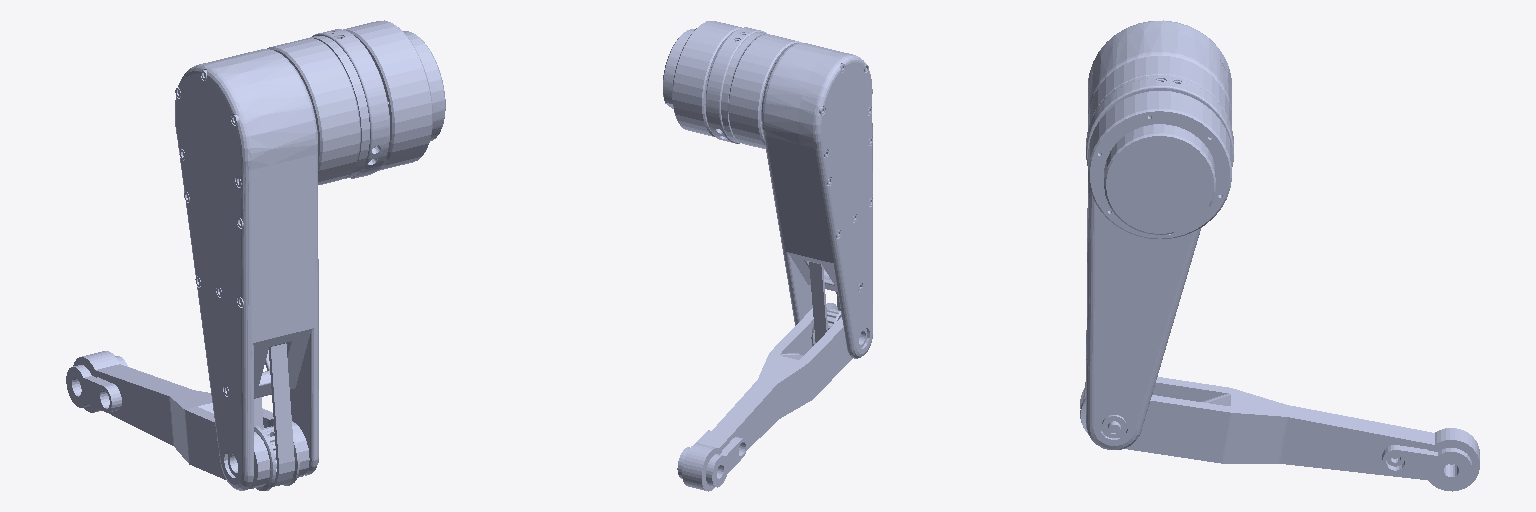
URDF robot description (bipedal):
<?xml version="1.0" encoding="utf-8"?>
<!-- This URDF was automatically created by SolidWorks to URDF Exporter! Originally created by [author] ([email redacted]) 
     Commit Version: 1.6.0-4-g7f85cfe  Build Version: 1.6.7995.38578
     For more information, please see http://wiki.ros.org/sw_urdf_exporter -->
<robot
  name="bipedal">
  <link
    name="hip">
    <inertial>
      <origin
        xyz="0.0173834753494876 0.000104515089306609 8.47570205442905E-05"
        rpy="0 0 0" />
      <mass
        value="0.145351084248357" />
      <inertia
        ixx="9.42168190177246E-05"
        ixy="-2.11499558612165E-07"
        ixz="-1.71516596824862E-07"
        iyy="6.2237093053808E-05"
        iyz="2.51434127778847E-07"
        izz="6.2130947779561E-05" />
    </inertial>
    <visual>
      <origin
        xyz="0 0 0"
        rpy="0 0 0" />
      <geometry>
        <mesh
          filename="package://bipedal/meshes/hip.STL" />
      </geometry>
      <material
        name="">
        <color
          rgba="0.792156862745098 0.819607843137255 0.933333333333333 1" />
      </material>
    </visual>
    <collision>
      <origin
        xyz="0 0 0"
        rpy="0 0 0" />
      <geometry>
        <mesh
          filename="package://bipedal/meshes/hip.STL" />
      </geometry>
    </collision>
  </link>
  <link
    name="thigh">
    <inertial>
      <origin
        xyz="-0.0468402510419575 -0.0291148019085358 0.0179527896163789"
        rpy="0 0 0" />
      <mass
        value="0.416055160505322" />
      <inertia
        ixx="0.000860597525008314"
        ixy="8.64189866727972E-06"
        ixz="-5.37555316904657E-06"
        iyy="0.000330091472990173"
        iyz="0.000253540497913734"
        izz="0.000581710663565449" />
    </inertial>
    <visual>
      <origin
        xyz="0 0 0"
        rpy="0 0 0" />
      <geometry>
        <mesh
          filename="package://bipedal/meshes/thigh.STL" />
      </geometry>
      <material
        name="">
        <color
          rgba="0.792156862745098 0.819607843137255 0.933333333333333 1" />
      </material>
    </visual>
    <collision>
      <origin
        xyz="0 0 0"
        rpy="0 0 0" />
      <geometry>
        <mesh
          filename="package://bipedal/meshes/thigh.STL" />
      </geometry>
    </collision>
  </link>
  <joint
    name="thigh"
    type="revolute">
    <origin
      xyz="0 0 0"
      rpy="1.9908 0 0" />
    <parent
      link="hip" />
    <child
      link="thigh" />
    <axis
      xyz="1 0 0" />
    <limit
      lower="0"
      upper="0"
      effort="0"
      velocity="0" />
  </joint>
  <link
    name="calf">
    <inertial>
      <origin
        xyz="-0.0159943328931739 -0.0724625522067053 -0.0518203633585031"
        rpy="0 0 0" />
      <mass
        value="0.100407475051468" />
      <inertia
        ixx="0.000174201504421799"
        ixy="-3.69356135594425E-08"
        ixz="-2.64129484295427E-08"
        iyy="6.70724360673057E-05"
        iyz="-7.67423937930242E-05"
        izz="0.00011950317547468" />
    </inertial>
    <visual>
      <origin
        xyz="0 0 0"
        rpy="0 0 0" />
      <geometry>
        <mesh
          filename="package://bipedal/meshes/calf.STL" />
      </geometry>
      <material
        name="">
        <color
          rgba="0.792156862745098 0.819607843137255 0.933333333333333 1" />
      </material>
    </visual>
    <collision>
      <origin
        xyz="0 0 0"
        rpy="0 0 0" />
      <geometry>
        <mesh
          filename="package://bipedal/meshes/calf.STL" />
      </geometry>
    </collision>
  </link>
  <joint
    name="calf"
    type="revolute">
    <origin
      xyz="-0.04955 -0.15303 0.094774"
      rpy="0.36505 0 0" />
    <parent
      link="thigh" />
    <child
      link="calf" />
    <axis
      xyz="1 0 0" />
    <limit
      lower="0"
      upper="0"
      effort="0"
      velocity="0" />
  </joint>
</robot>

--- Facts derived from the render (not from the file) ---
The picture shows the robot from 3 angles, left to right: view 1: azimuth 30°, elevation 25°; view 2: azimuth 150°, elevation 25°; view 3: azimuth 270°, elevation 25°; orthographic projection.
Robot: bipedal — 3 links, 2 joints (2 revolute); root link hip; default pose: every joint at zero.
Links seen in each view (by area): view 1: thigh, calf, hip; view 2: thigh, calf, hip; view 3: thigh, calf, hip.
Link boxes in pixels (x1=…): thigh: x1=175, y1=29, x2=389, y2=490; calf: x1=66, y1=351, x2=309, y2=488; hip: x1=343, y1=20, x2=445, y2=170; thigh: x1=705, y1=27, x2=872, y2=358; calf: x1=677, y1=308, x2=852, y2=491; hip: x1=663, y1=21, x2=741, y2=136; thigh: x1=1080, y1=20, x2=1233, y2=449; calf: x1=1125, y1=377, x2=1479, y2=491; hip: x1=1088, y1=91, x2=1231, y2=238.
Bounding box of the posed robot: 0.1265 × 0.2105 × 0.2619 m (x, y, z).
Meshes: 3 distinct files referenced, 3 mesh visuals loaded (3 binary STL).